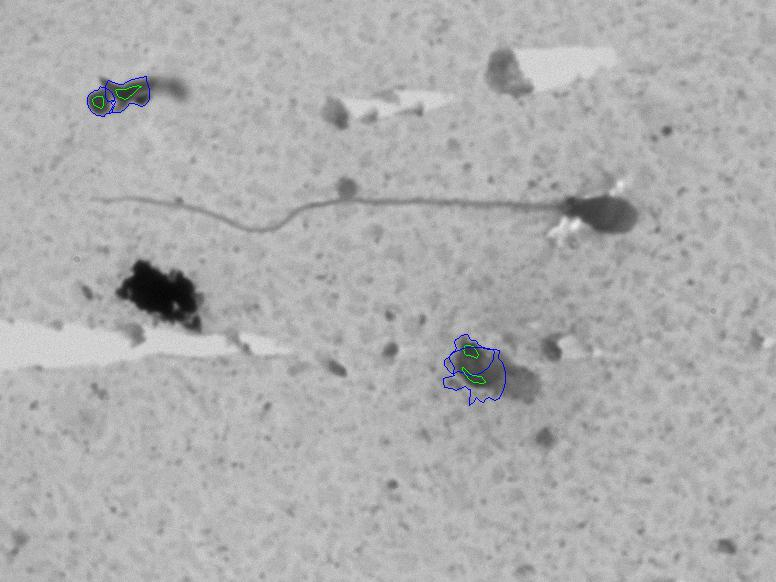Normal: (54, 125, 673, 256)
